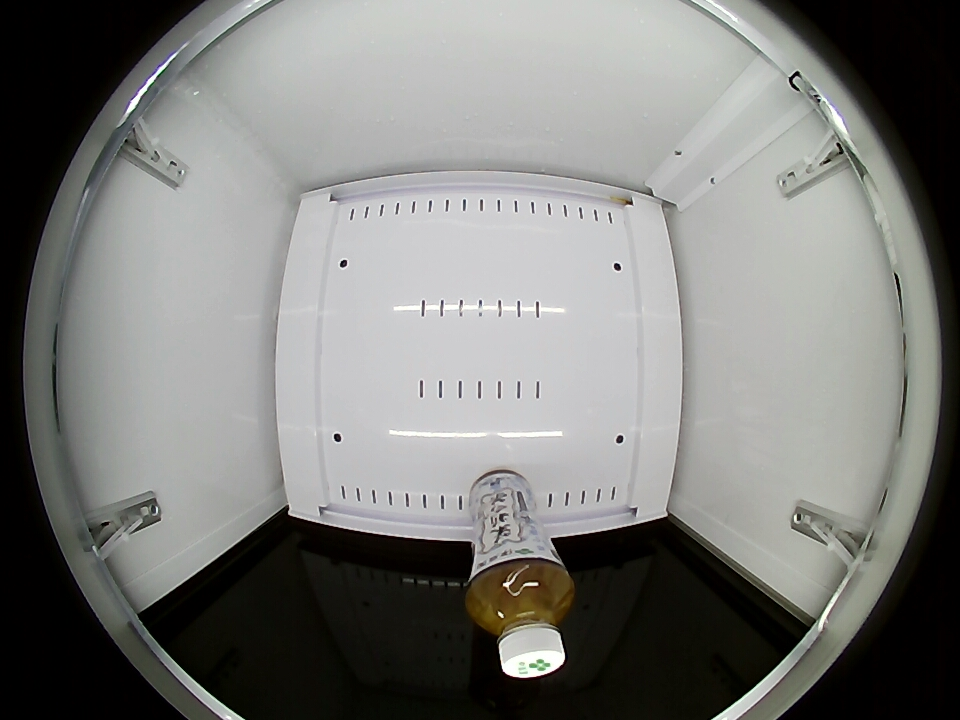baicha: (466, 557, 574, 679)
